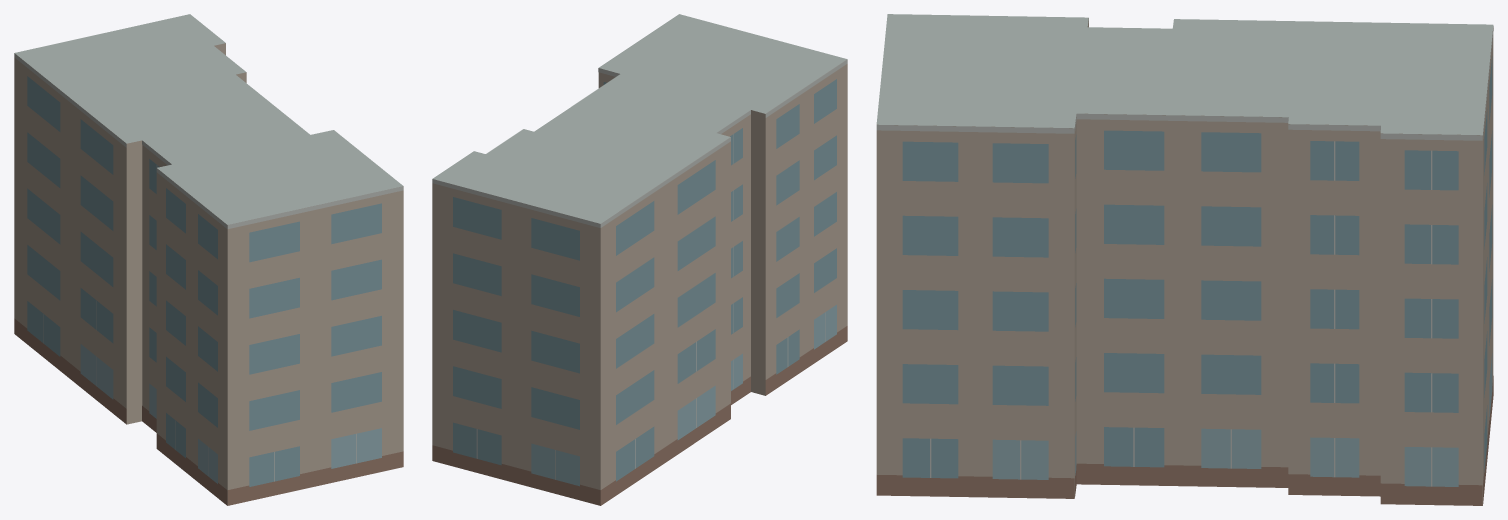
Rendered from survey-upis-32969148.glb.
The picture shows the model from 3 angles, left to right: view 1: azimuth 30°, elevation 25°; view 2: azimuth 150°, elevation 25°; view 3: azimuth 270°, elevation 25°; orthographic projection. The views are drawn at different scales.
Visible parts, largest first — view 1: survey-upis-32969148.tmp; view 2: survey-upis-32969148.tmp; view 3: survey-upis-32969148.tmp.
Boxes of the visible parts, x1,y1,x2,y2 form: survey-upis-32969148.tmp: (14, 14, 403, 505); survey-upis-32969148.tmp: (432, 14, 847, 505); survey-upis-32969148.tmp: (876, 14, 1493, 505).
Bounding box in the file's own units: 11.22 × 16 × 24.14.
